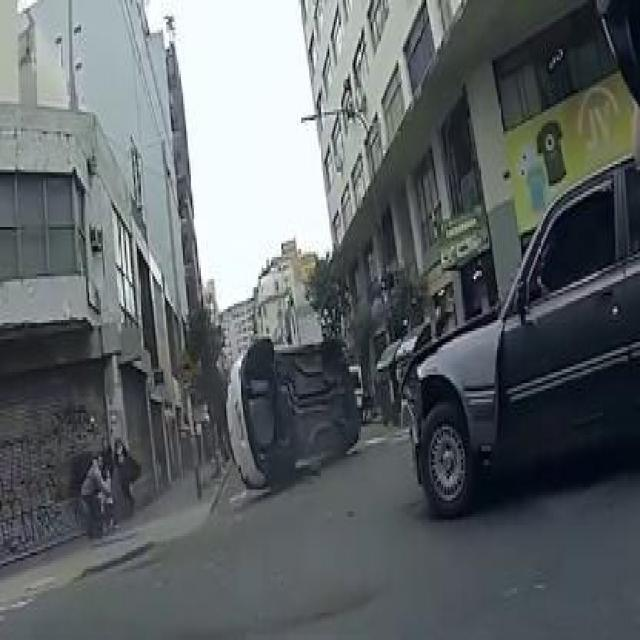accident: (218, 328, 364, 501)
